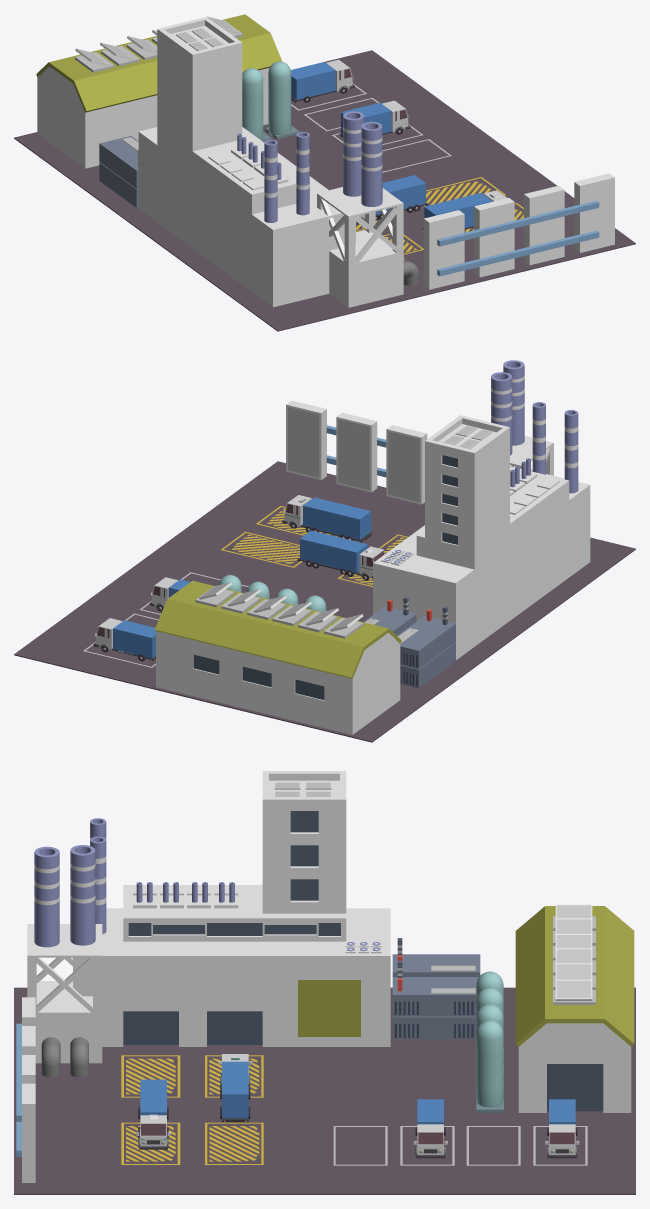
File: recycle building.fbx
3 views of the same model, one above another, from view 1: azimuth 30°, elevation 25°; view 2: azimuth 150°, elevation 25°; view 3: azimuth 270°, elevation 25° (orthographic). The views are drawn at different scales.
Parts seen in each view (by area): view 1: Cube_26, floor, Cube_10, Cube_1, Cube_10_2, Cube_2_11, Cube_3_10, Cube_1_3_19, Tube_3, Capsule_3, Tube_2, Capsule_4 (+14 smaller); view 2: floor, Cube_26, Cube_10, Cube_1_3_19, Cube_2_11, Cube_3_10, back__3, Cube_10_4, back_, back__2, parking_2, Tube_2 (+5 smaller); view 3: floor, Cube_26, Cube_10, Cube_1, Plane, Cube_9_3, Tube_3, Tube_2, Capsule_3, Cube_13, Cube_10_4, parking_2 (+20 smaller).
Part boxes in pixels (x1,y1,x2,y2): Cube_26: (138, 17, 355, 307); floor: (14, 50, 635, 331); Cube_10: (36, 14, 282, 168); Cube_1: (317, 194, 403, 307); Cube_10_2: (423, 210, 464, 289); Cube_2_11: (574, 173, 614, 252); Cube_3_10: (474, 198, 514, 277); Cube_1_3_19: (524, 185, 564, 265); Tube_3: (361, 121, 382, 206); Capsule_3: (268, 61, 291, 136); Tube_2: (343, 111, 364, 196); Capsule_4: (242, 68, 263, 139); floor: (14, 461, 635, 742); Cube_26: (373, 415, 590, 659); Cube_10: (155, 580, 401, 734); Cube_1_3_19: (336, 412, 377, 492); Cube_2_11: (286, 400, 326, 479); Cube_3_10: (386, 425, 427, 504); back__3: (303, 497, 371, 539); Cube_10_4: (397, 616, 455, 669); back_: (300, 530, 367, 572); back__2: (113, 620, 155, 658); parking_2: (221, 531, 302, 567); Tube_2: (491, 372, 512, 455); floor: (14, 987, 635, 1194); Cube_26: (73, 771, 390, 1046); Cube_10: (515, 906, 634, 1112); Cube_1: (27, 955, 102, 1063); Plane: (298, 980, 360, 1036); Cube_9_3: (392, 977, 478, 1016); Tube_3: (34, 846, 59, 947); Tube_2: (70, 845, 95, 945); Capsule_3: (476, 1020, 503, 1107); Cube_13: (392, 1016, 476, 1039); Cube_10_4: (392, 954, 480, 976); parking_2: (205, 1122, 263, 1164).
Bounding box in the file's own units: 7762 × 4141 × 9902.
32 materials, 1 textured.
